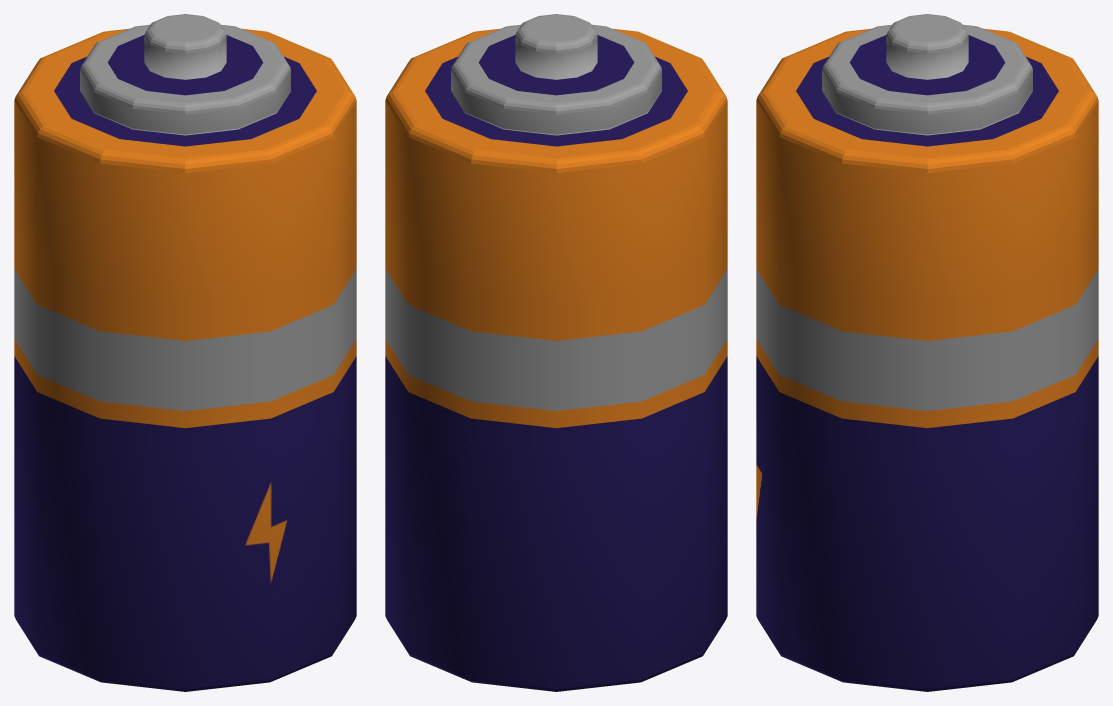
The model's file is battery.fbx.
3 views of the same model, side by side, from view 1: azimuth 30°, elevation 25°; view 2: azimuth 150°, elevation 25°; view 3: azimuth 270°, elevation 25° (orthographic).
Parts seen in each view (by area): view 1: battery; view 2: battery; view 3: battery.
Boxes of the visible parts, <box> form: battery: <box>14,14,356,691</box>; battery: <box>385,14,727,691</box>; battery: <box>756,14,1098,691</box>.
Bounding box in the file's own units: 0.2296 × 0.4395 × 0.2296.
Materials: 4 (1 with a texture image).
